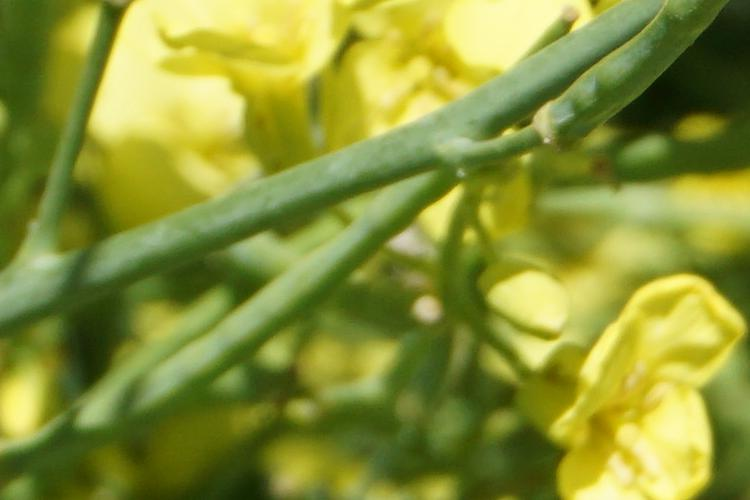yellow: (436, 264, 736, 492), (204, 15, 504, 121)
